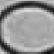no answer: (0, 0, 54, 54)
